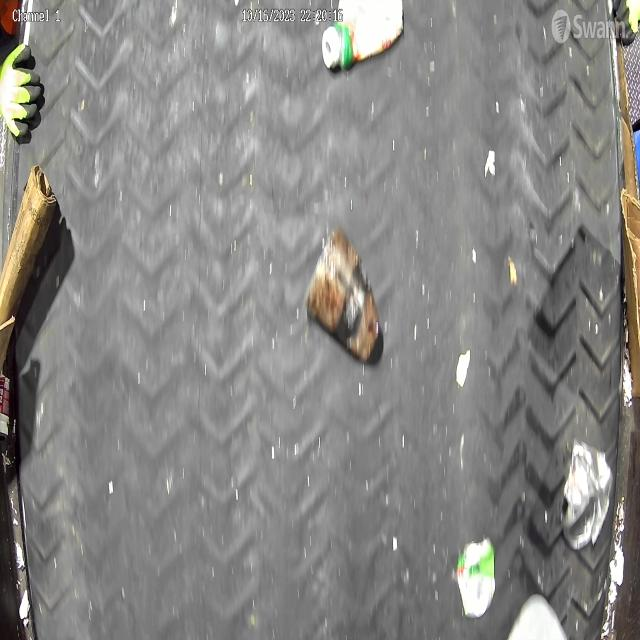can: (561, 441, 615, 552), (455, 537, 497, 620)
